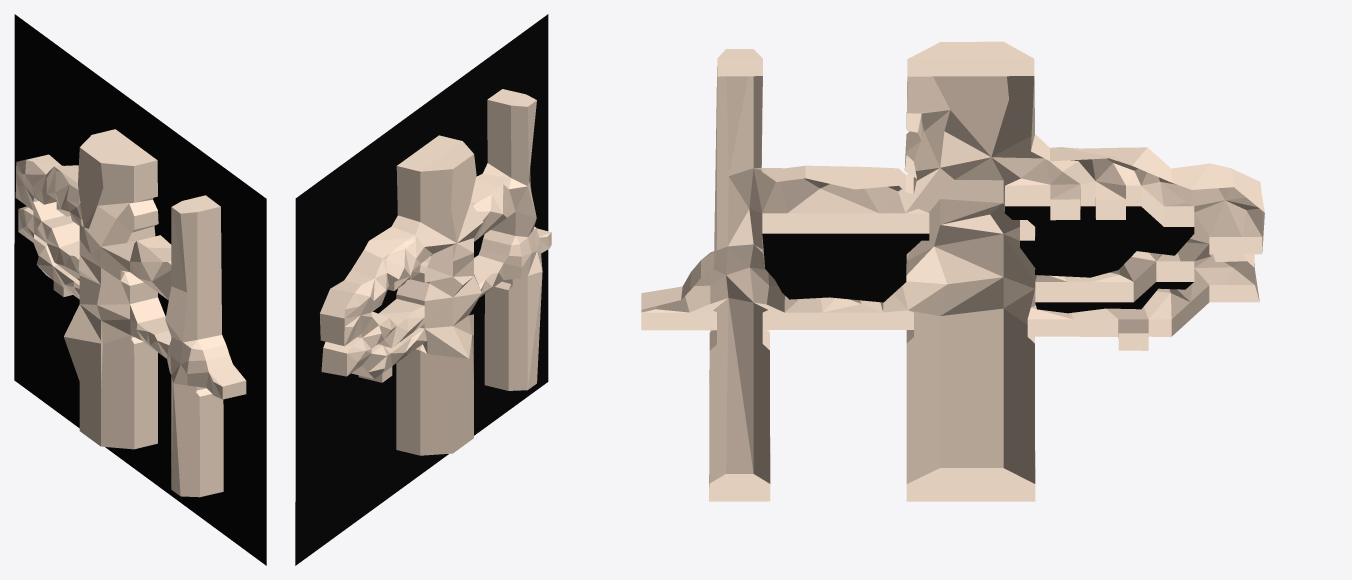
The model's file is Level 1.fbx.
The picture shows the model from 3 angles, left to right: view 1: azimuth 30°, elevation 25°; view 2: azimuth 150°, elevation 25°; view 3: azimuth 270°, elevation 25°; orthographic projection. The views are drawn at different scales.
Parts seen in each view (by area): view 1: Cube.001; view 2: Cube.001; view 3: Cube.001.
Part boxes in pixels (x1,y1,x2,y2): Cube.001: [14, 14, 266, 565]; Cube.001: [295, 14, 551, 565]; Cube.001: [641, 41, 1264, 501].
Bounding box in the file's own units: 1420 × 8042 × 10006.
